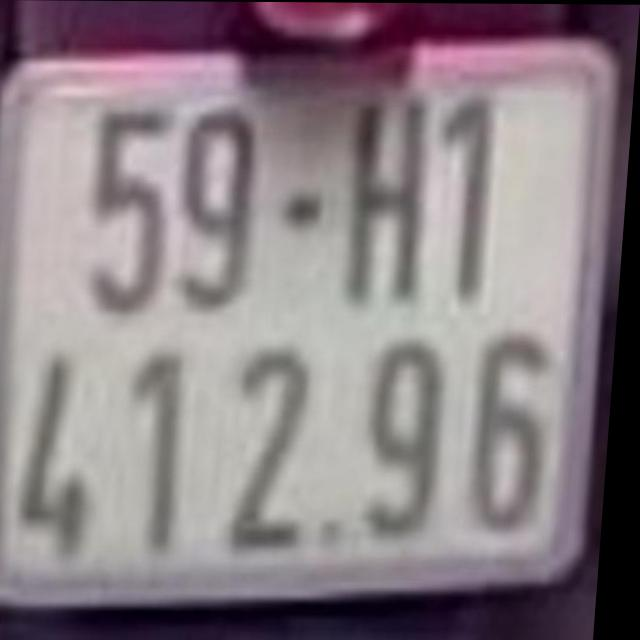1: (126, 345, 196, 551), (431, 90, 498, 301)
2: (229, 338, 319, 545)
4: (13, 351, 103, 548)
5: (96, 108, 179, 313)
6: (481, 335, 560, 534)
9: (179, 104, 263, 302), (371, 339, 454, 531)
H: (347, 95, 431, 301)
